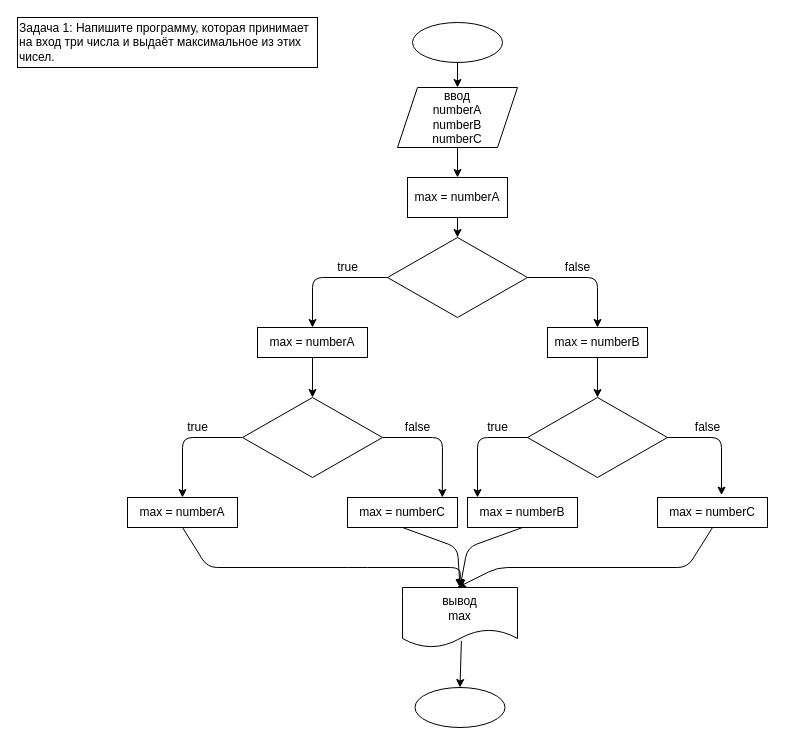
The diagram is 785 pixels wide and 745 high, and some of its shapes have lost their labels. Each missing label, with the centre of its shape:
"end" belongs at (x=459, y=707).
"numberA > numberB" belongs at (x=457, y=277).
"numberA > numberC" belongs at (x=312, y=437).
"numberB > numberC" belongs at (x=597, y=437).
"start" belongs at (x=457, y=42).
